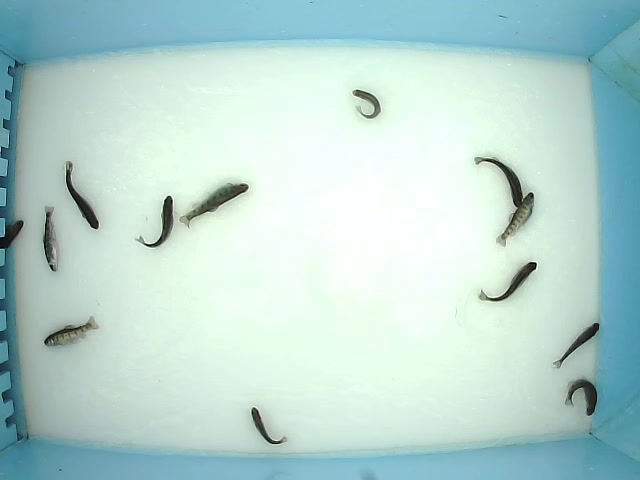fish: (178, 182, 250, 230), (473, 155, 524, 208), (477, 261, 538, 303), (64, 160, 100, 230), (133, 195, 179, 249), (552, 321, 601, 369), (495, 191, 535, 248), (43, 314, 101, 348), (250, 406, 288, 445), (564, 375, 599, 417), (41, 204, 61, 273), (351, 88, 382, 121)
